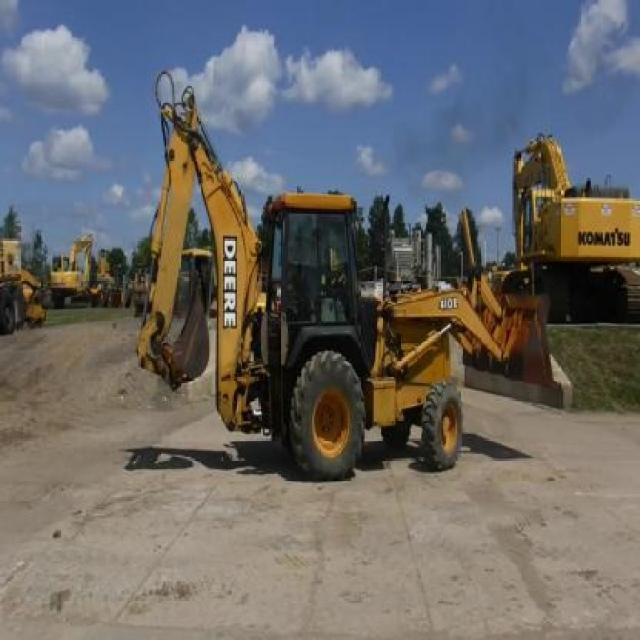Excavator: (506, 138, 640, 324)
